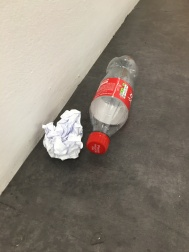bottle_red: (87, 47, 141, 168)
paper_white: (26, 101, 86, 160)
